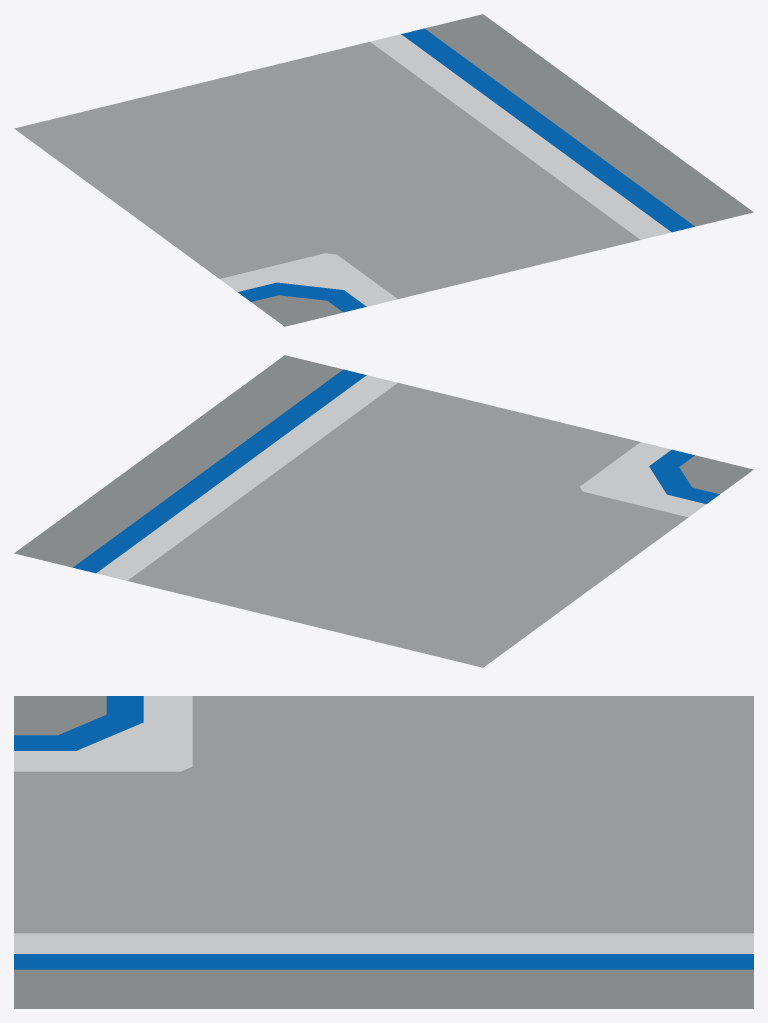
The model's file is Ceiling_type_A_008.002.fbx.
3 views of the same model, one above another, from view 1: azimuth 30°, elevation 25°; view 2: azimuth 150°, elevation 25°; view 3: azimuth 270°, elevation 25° (orthographic). The views are drawn at different scales.
Visible parts, largest first — view 1: Ceiling_type_A_008.002; view 2: Ceiling_type_A_008.002; view 3: Ceiling_type_A_008.002.
Part boxes in pixels (x1,y1,x2,y2): Ceiling_type_A_008.002: (14,14,753,326); Ceiling_type_A_008.002: (14,355,753,667); Ceiling_type_A_008.002: (14,696,753,1008).
Size of the model in its own units: 400 by 400 by 4.55.
